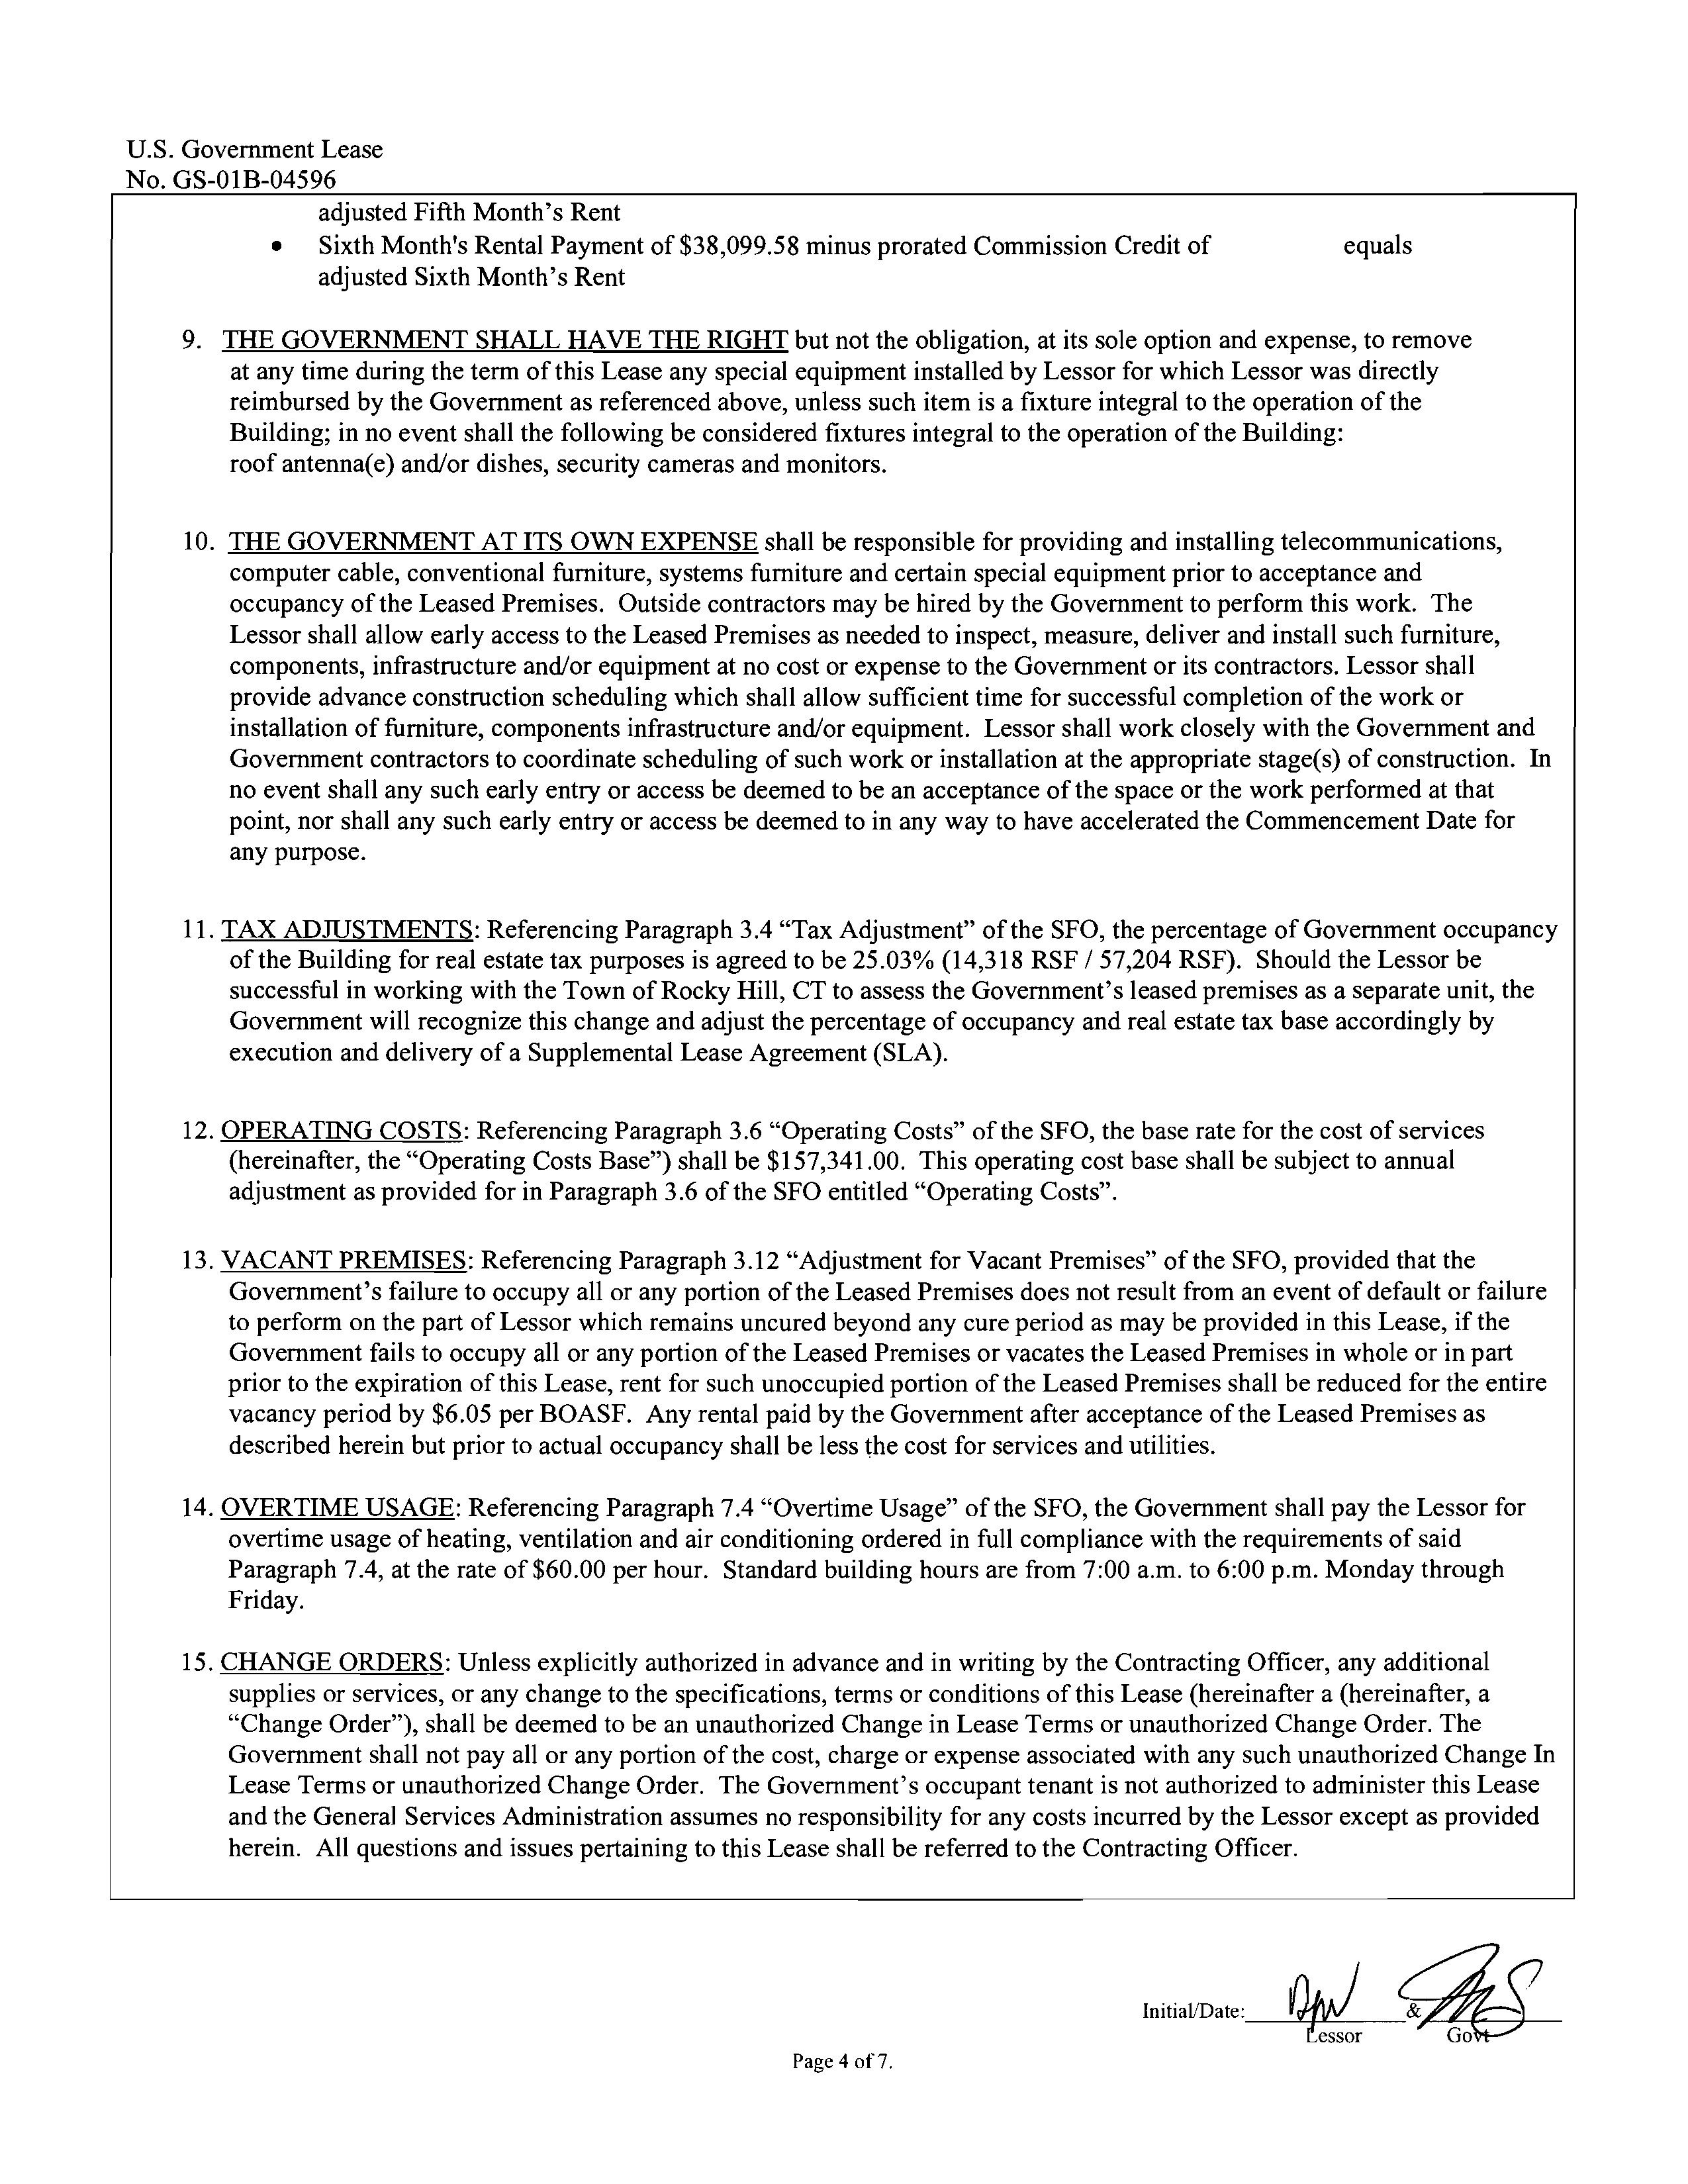handwritten: (1424, 1945, 1559, 2019), (1385, 1945, 1569, 1998), (1280, 1959, 1365, 2024), (1438, 1996, 1557, 2030)
